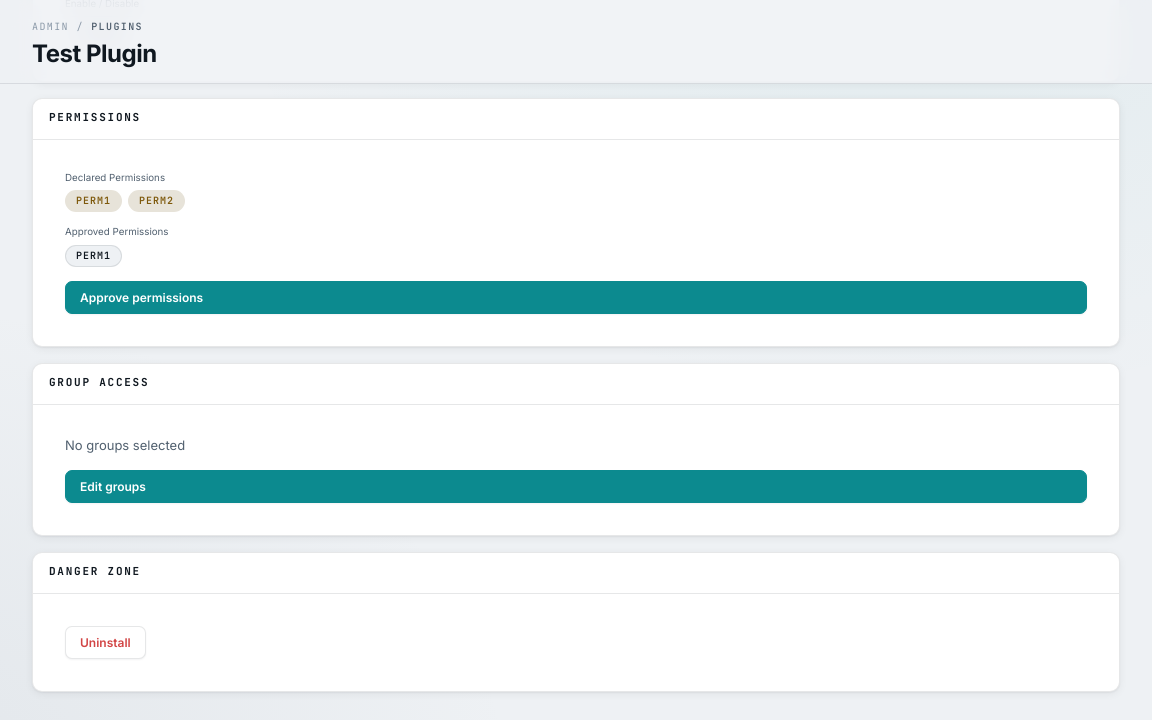
Scenario: PluginDetail › shows uninstall confirm modal with required text
The image size is (1152, 720).
(page scrolled)
Check: the heading "Test Plugin" is shown, box [32,38,157,68]
Step 1. Click the button "Uninstall" → point(105, 642), box [65,626,146,659]
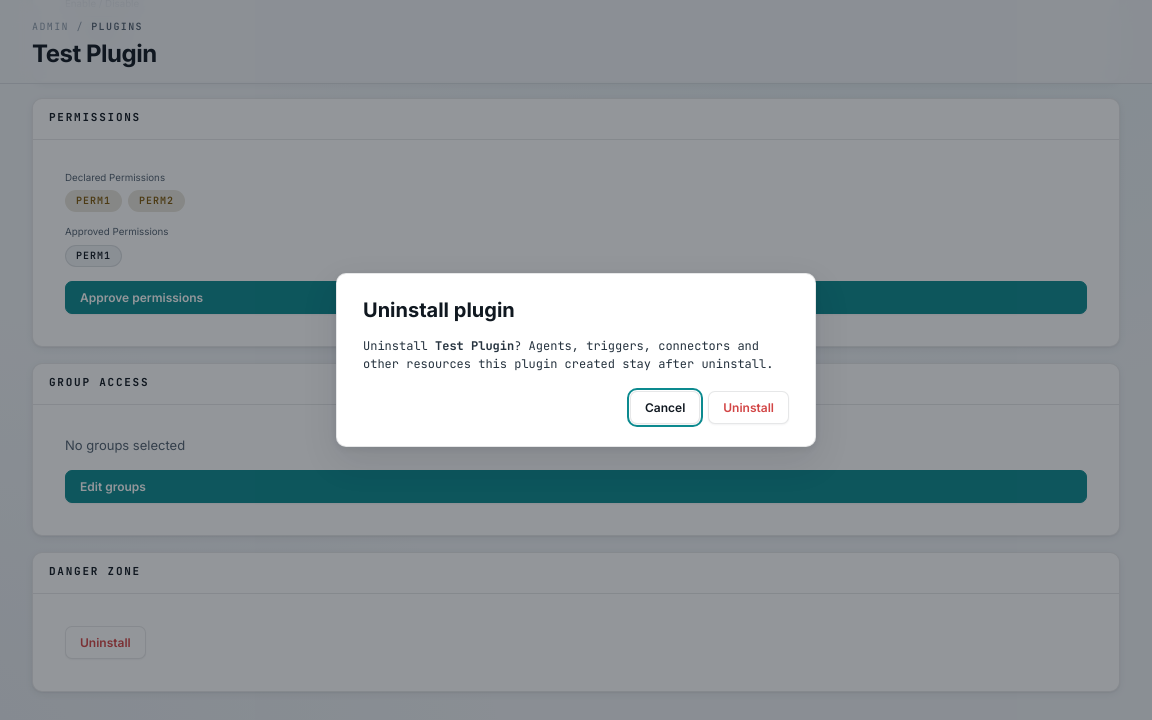
Check: the text "Agents, triggers, connectors and other resources this plugin created stay after uninstall" is shown, box [363,338,773,372]
